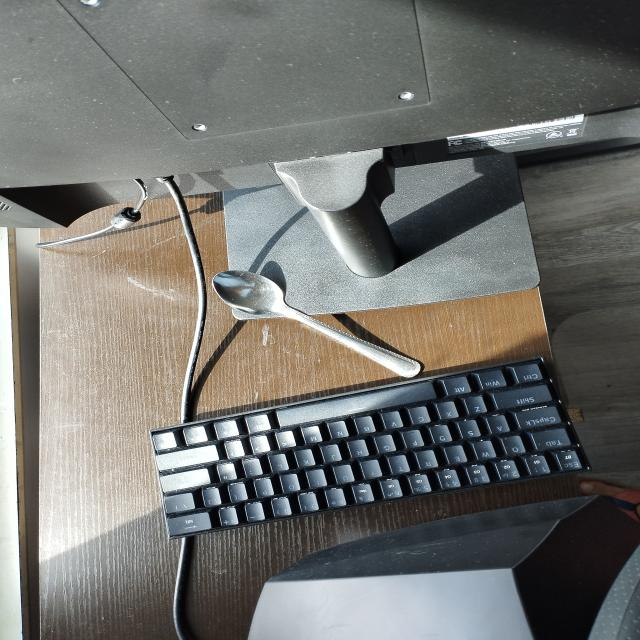Spoon: (202, 268, 440, 380)
